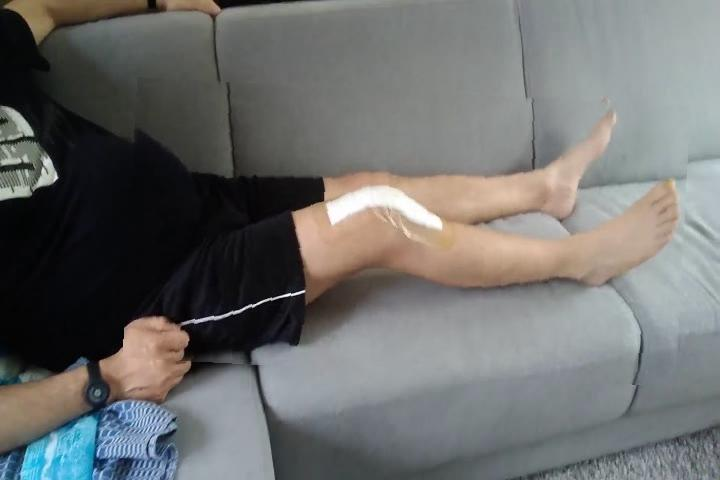lowerbody: (128, 85, 688, 380)
